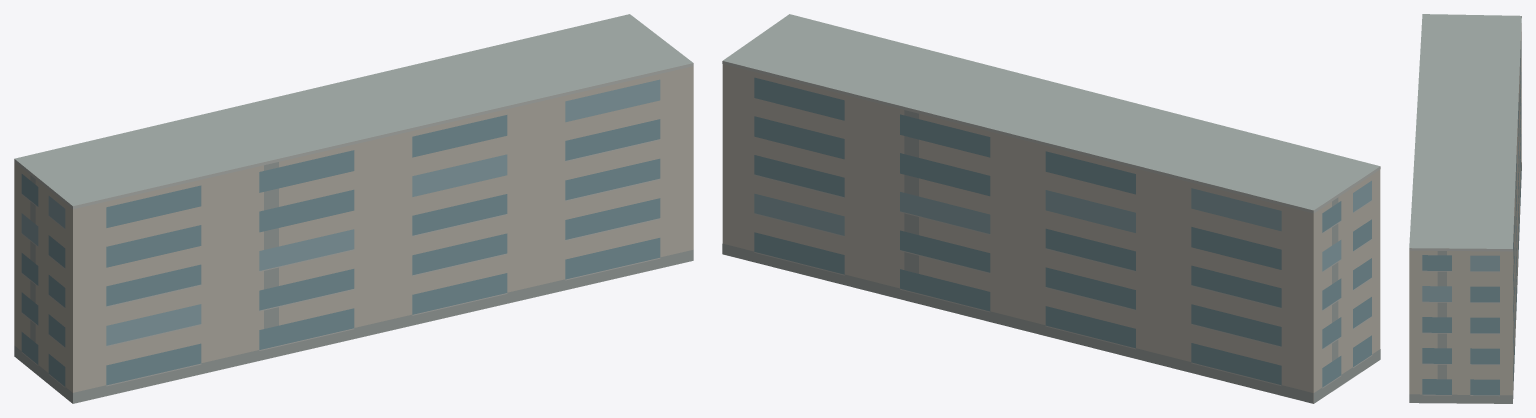
The model's file is residential-cea8ece2-b12c-4a94-861e-f1a0d388e0a2.glb.
3 views of the same model, side by side, from view 1: azimuth 30°, elevation 25°; view 2: azimuth 150°, elevation 25°; view 3: azimuth 270°, elevation 25° (orthographic). The views are drawn at different scales.
Parts seen in each view (by area): view 1: residential-cea8ece2-b12c-4a94-861e-f1a0d388e0a2.tmp; view 2: residential-cea8ece2-b12c-4a94-861e-f1a0d388e0a2.tmp; view 3: residential-cea8ece2-b12c-4a94-861e-f1a0d388e0a2.tmp.
Part boxes in pixels (x1,y1,x2,y2): residential-cea8ece2-b12c-4a94-861e-f1a0d388e0a2.tmp: (14, 14, 693, 403); residential-cea8ece2-b12c-4a94-861e-f1a0d388e0a2.tmp: (722, 14, 1380, 403); residential-cea8ece2-b12c-4a94-861e-f1a0d388e0a2.tmp: (1409, 14, 1521, 403).
Size of the model in its own units: 49.63 by 15.25 by 10.05.
